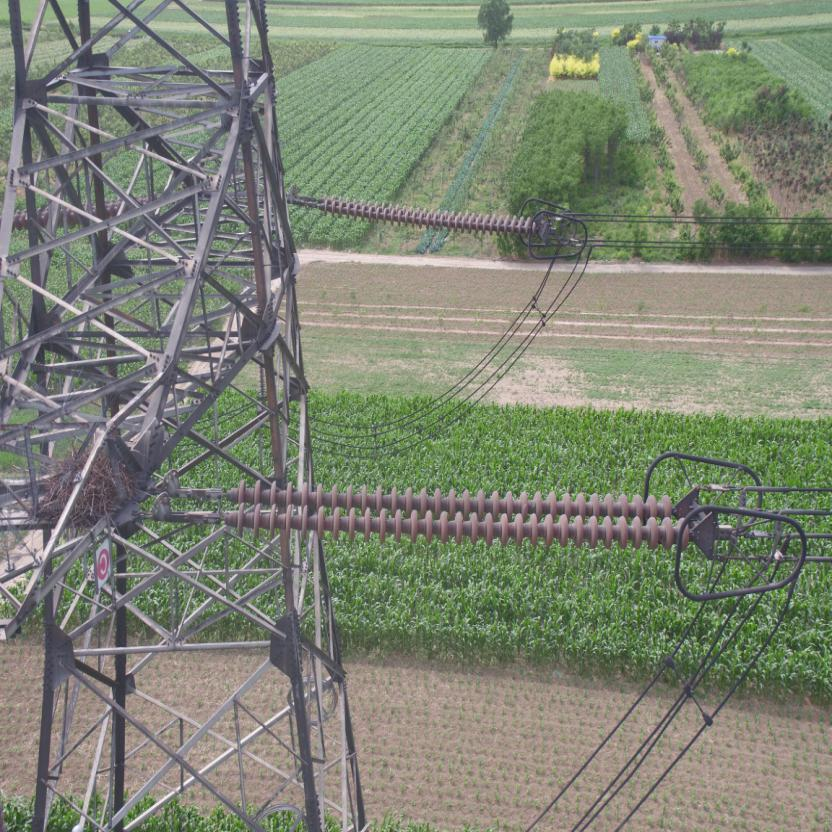insulator: (195, 474, 705, 554), (303, 190, 543, 236)
